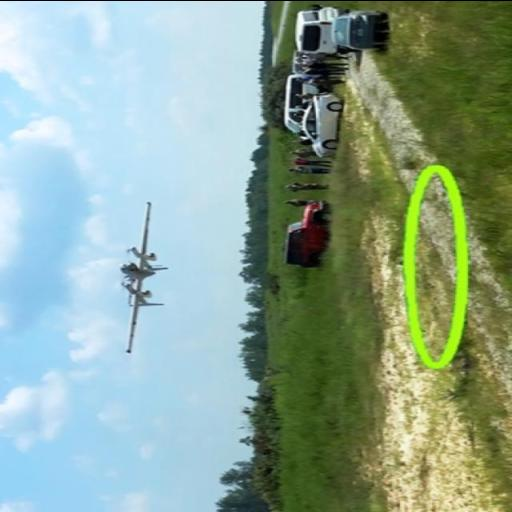uav: (108, 197, 173, 355)
